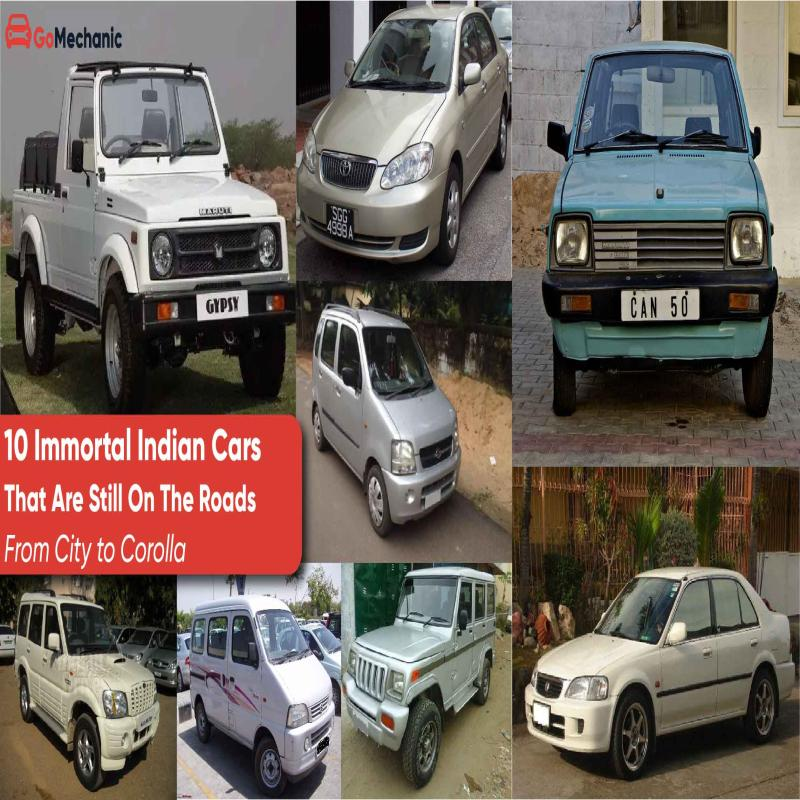car: (546, 45, 776, 405), (532, 564, 794, 769), (298, 4, 514, 252), (342, 564, 504, 772), (313, 308, 462, 534), (13, 564, 157, 780), (184, 592, 330, 787)
